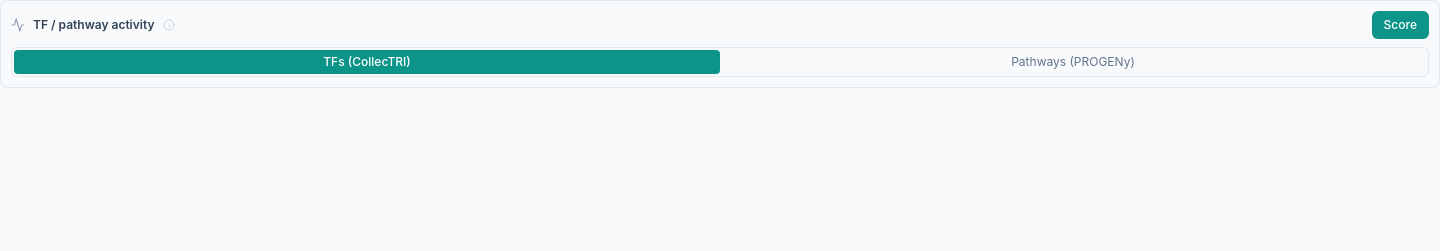
Test: DEActivity › scores the DE statistic of every gene that has one
This screenshot has width=1440, height=251.
Click the button "Score".
click(1400, 25)  # box [1372,11,1429,39]
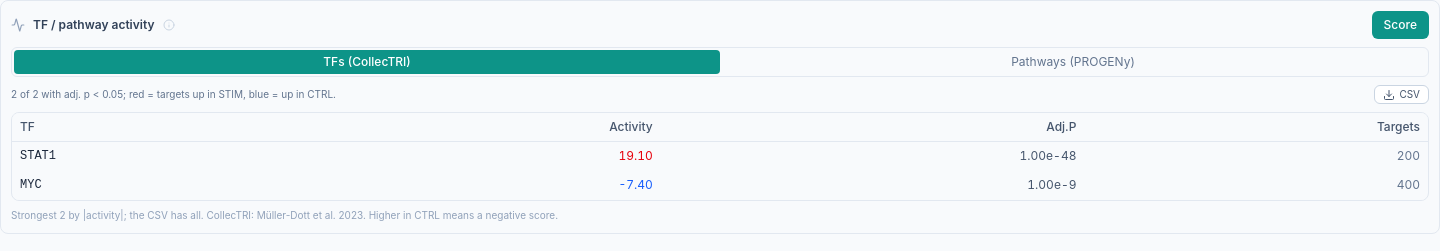
Expected: the text "STAT1" is shown, [12,142,314,171]
Expected: the text "2 of 2 with adj. p < 0.05" is shown, [11,88,336,101]
